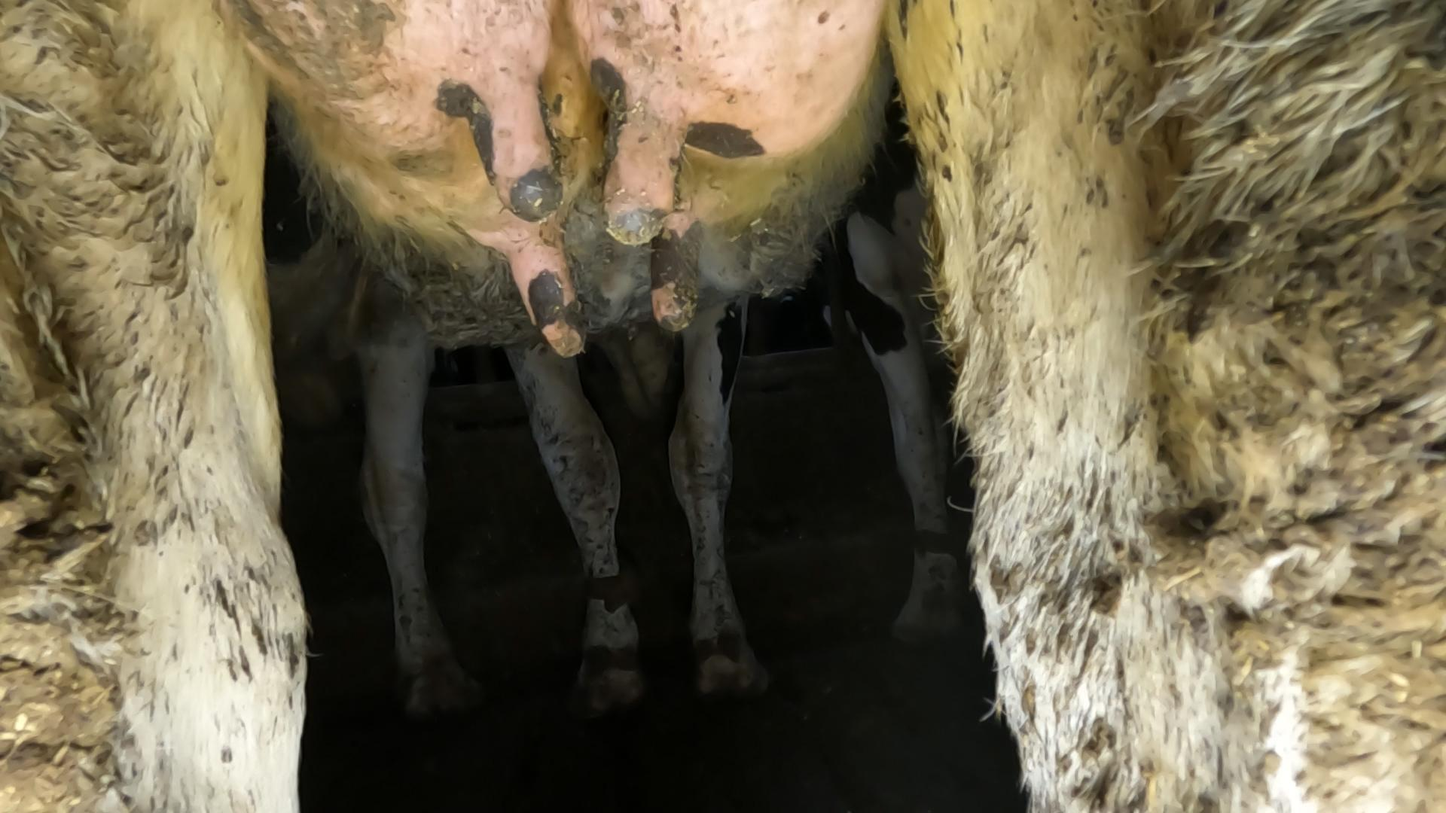Zitze: (591, 94, 703, 248), (476, 74, 564, 239), (512, 232, 586, 374), (644, 225, 706, 352)
